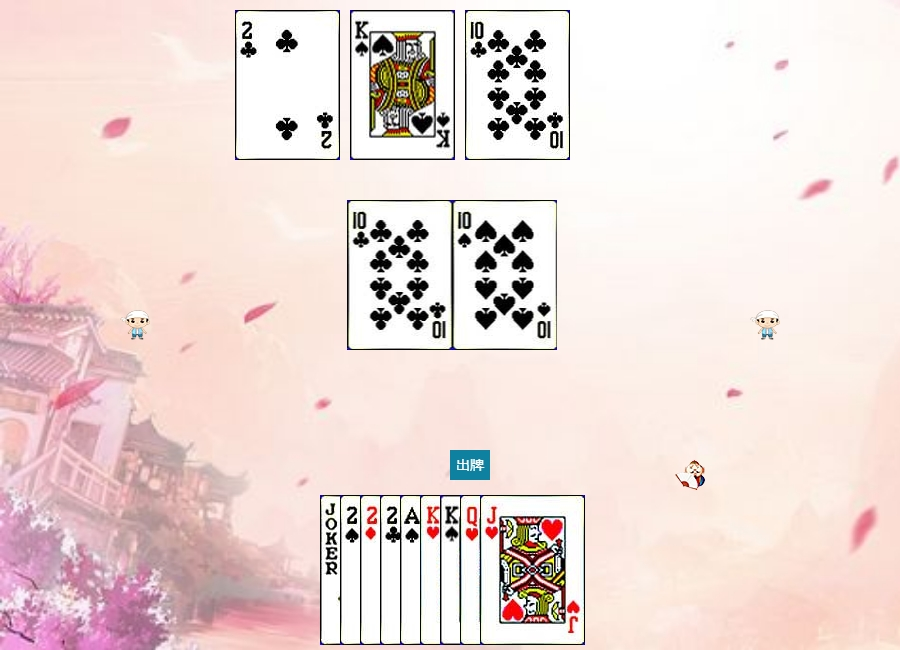10~2: (465, 10, 570, 160), (348, 200, 453, 350)
10~4: (453, 200, 558, 350)
11~3: (480, 495, 585, 645)
12~3: (460, 495, 565, 645)
13~3: (420, 495, 525, 645)
13~4: (350, 10, 455, 160), (440, 495, 545, 645)
14~4: (400, 495, 505, 645)
15~1: (360, 495, 465, 645)
15~2: (235, 10, 340, 160), (380, 495, 485, 645)
15~4: (340, 495, 445, 645)
17~3: (320, 495, 425, 645)
